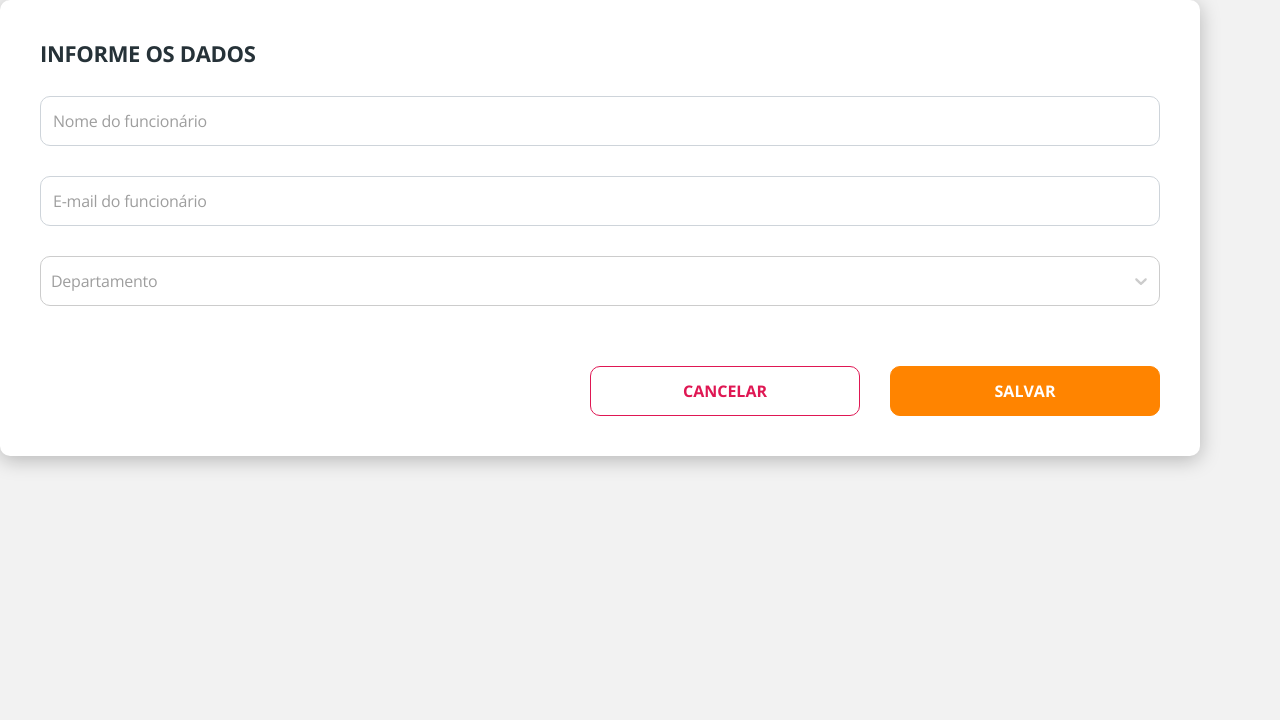
Scenario: Employee form create tests › should show 3 error messages when just clicking submit
Click the button "SALVAR" at [1025, 391], box x1=890 y1=366 x2=1160 y2=416
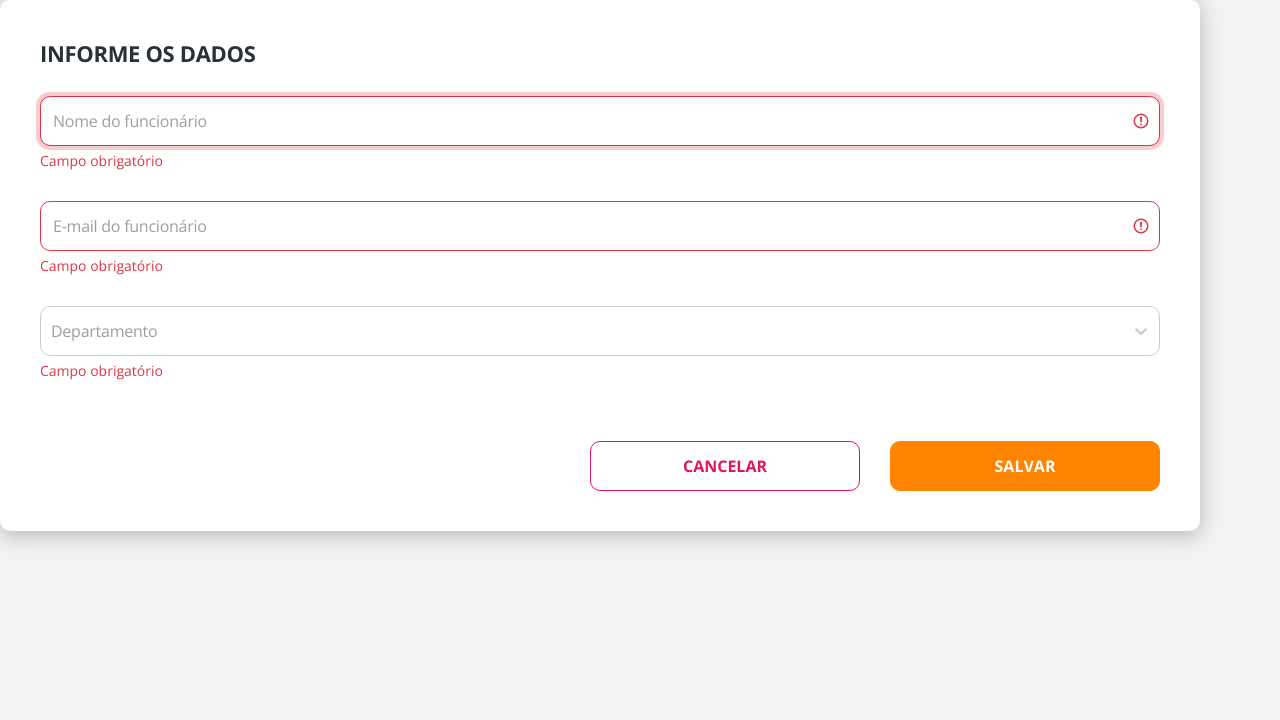
Check: the text "Campo obrigatório" is shown 3 times, box x1=40 y1=151 x2=163 y2=170; x1=40 y1=256 x2=163 y2=275; x1=40 y1=361 x2=163 y2=380
